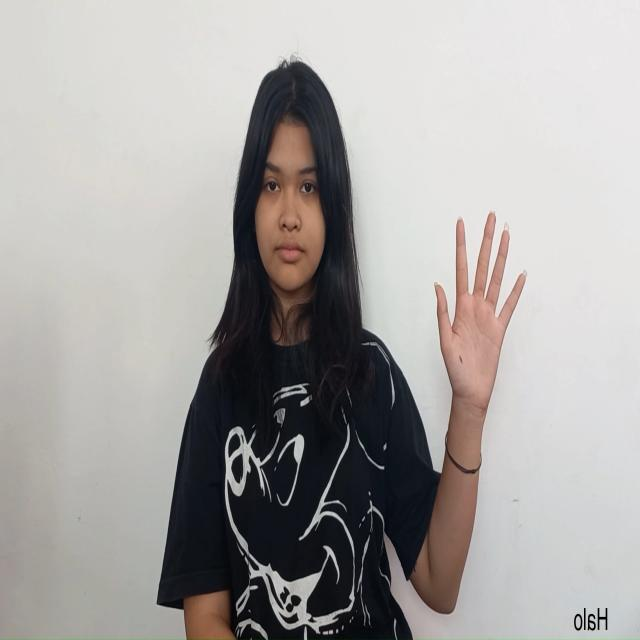Halo -BISINDO-: (433, 209, 528, 424)
